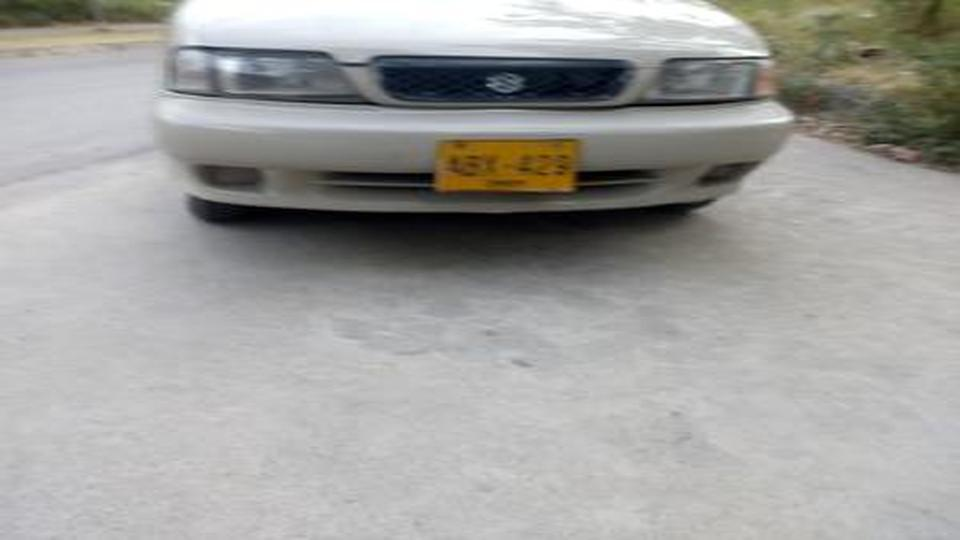NumberPlate: (434, 137, 577, 195)
